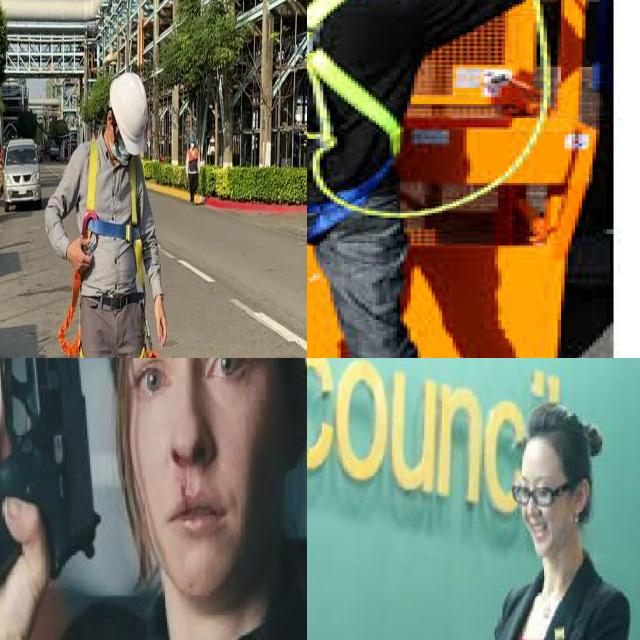Harness: (307, 0, 428, 243), (82, 140, 142, 284), (58, 271, 85, 358)
No_Glasses: (111, 358, 258, 400)
face_nomask: (99, 358, 273, 585), (504, 444, 572, 557)
glasses: (509, 482, 564, 510)
hand_noglove: (0, 358, 50, 640)
head_nohelmet: (498, 406, 592, 467)
person: (0, 358, 307, 640), (430, 404, 636, 640), (307, 358, 374, 640)
